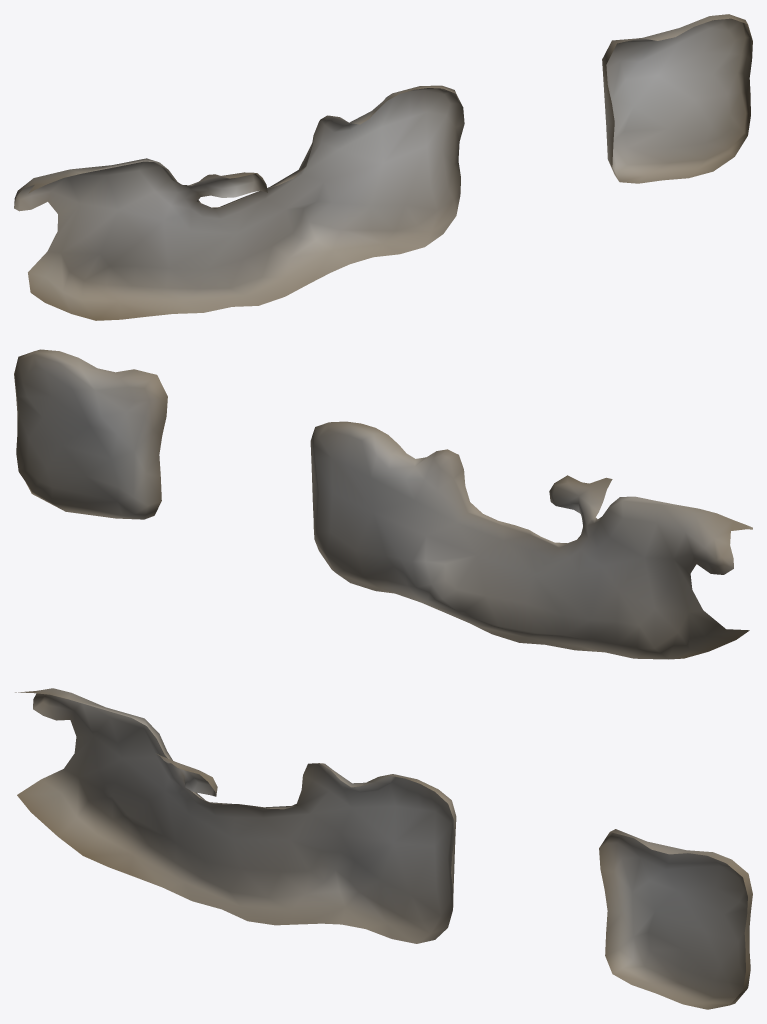
The model's file is PeglantisSand.fbx.
The picture shows the model from 3 angles, top to bottom: view 1: azimuth 30°, elevation 25°; view 2: azimuth 150°, elevation 25°; view 3: azimuth 330°, elevation 25°; orthographic projection.
Parts seen in each view (by area): view 1: PeglantisSand; view 2: PeglantisSand; view 3: PeglantisSand.
Part boxes in pixels (x1=…): PeglantisSand: x1=14, y1=14, x2=752, y2=320; PeglantisSand: x1=14, y1=349, x2=752, y2=659; PeglantisSand: x1=15, y1=688, x2=752, y2=1009.
Size of the model in its own units: 2107 by 495 by 224.
